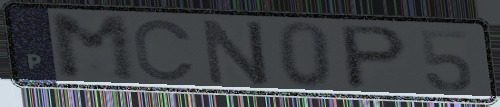0: (274, 19, 338, 92)
5: (415, 26, 474, 94)
C: (131, 17, 199, 84)
M: (46, 14, 143, 84)
N: (199, 16, 273, 88)
P: (339, 23, 412, 92)
